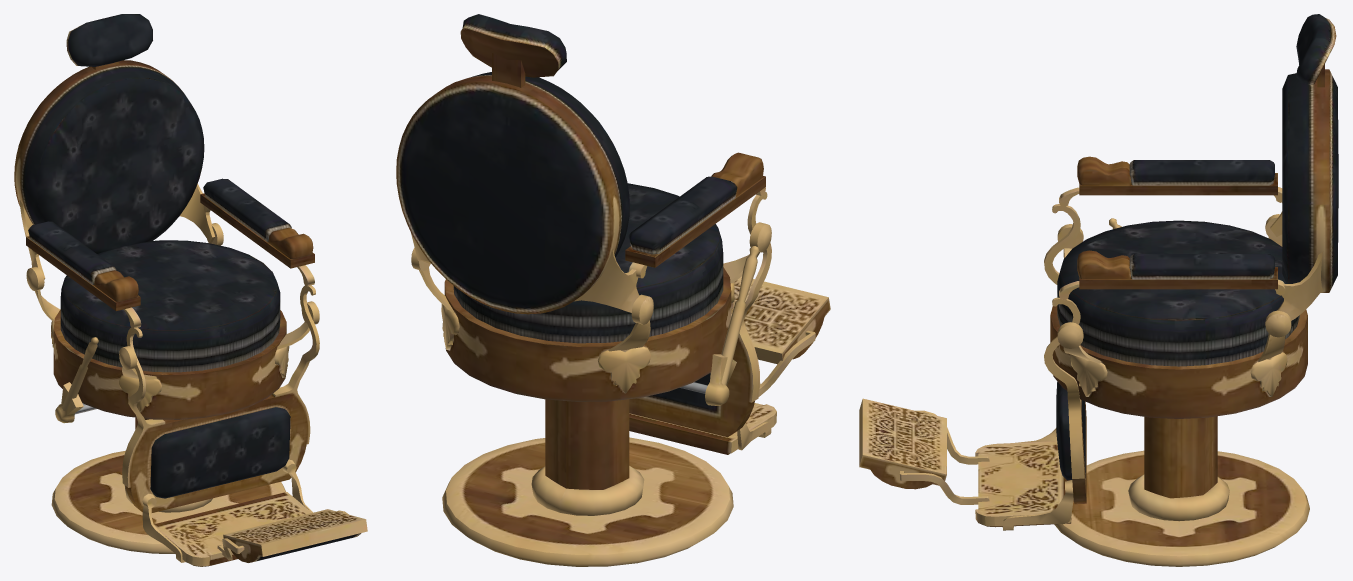
The model's file is BarberShopChair_01.glb.
3 views of the same model, side by side, from view 1: azimuth 30°, elevation 25°; view 2: azimuth 150°, elevation 25°; view 3: azimuth 270°, elevation 25° (orthographic). The views are drawn at different scales.
Visible parts, largest first — view 1: BarberShopChair_01; view 2: BarberShopChair_01; view 3: BarberShopChair_01.
Part boxes in pixels (x1,y1,x2,y2): BarberShopChair_01: (14, 14, 367, 566); BarberShopChair_01: (396, 14, 830, 566); BarberShopChair_01: (859, 14, 1338, 566).
Bounding box in the file's own units: 0.7566 × 1.49 × 1.33.
1 material, 1 textured.
